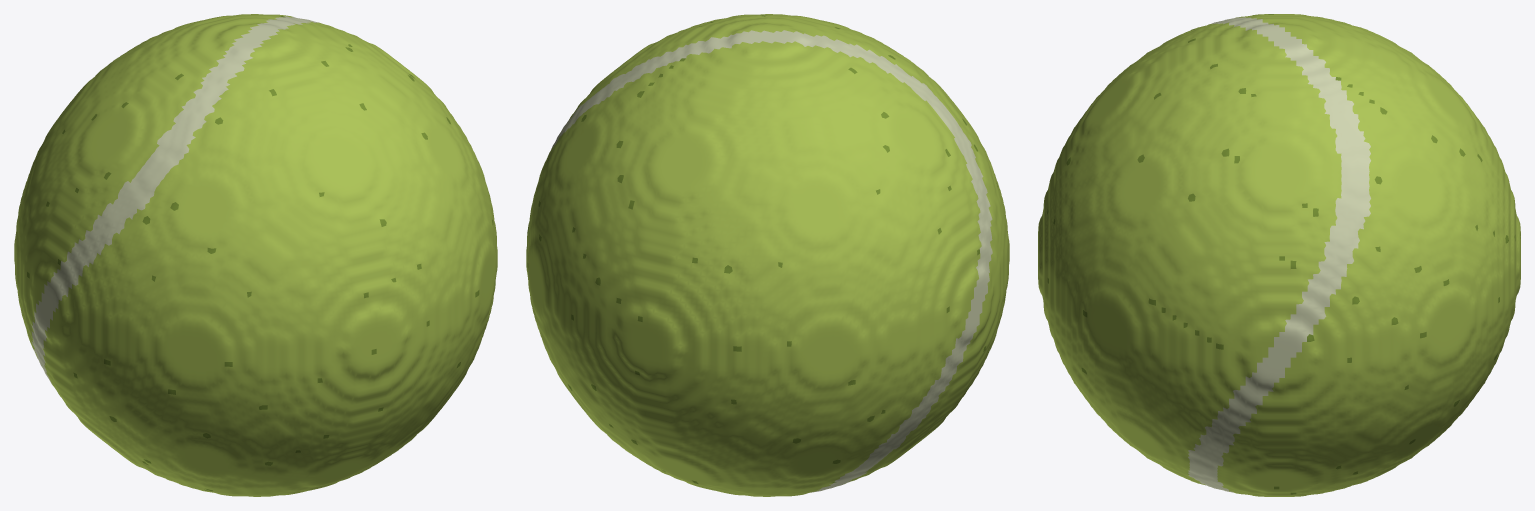
The model's file is tennis-ball.glb.
3 renders of one model, left to right at view 1: azimuth 30°, elevation 25°; view 2: azimuth 150°, elevation 25°; view 3: azimuth 270°, elevation 25°, orthographic.
Parts seen in each view (by area): view 1: __playground; view 2: __playground; view 3: __playground.
Boxes of the visible parts, left/top/right/bottom form: __playground: left=14, top=14, right=497, bottom=496; __playground: left=526, top=14, right=1009, bottom=496; __playground: left=1038, top=14, right=1520, bottom=496.
Bounding box in the file's own units: 2.15 × 2.15 × 2.15.
